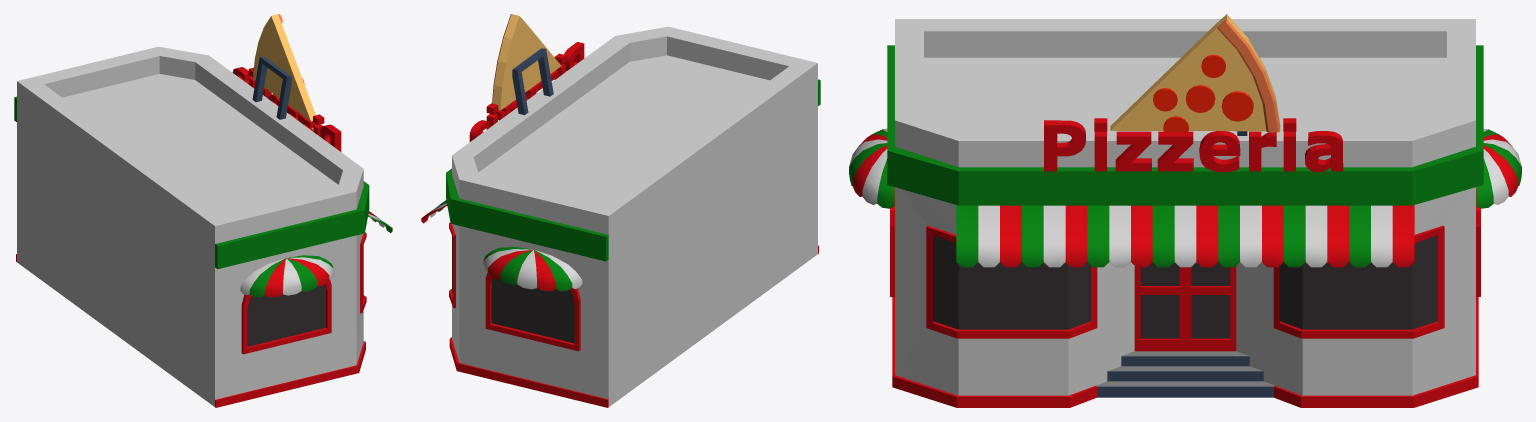
Rendered from shop_a_high.glb.
The picture shows the model from 3 angles, left to right: view 1: azimuth 30°, elevation 25°; view 2: azimuth 150°, elevation 25°; view 3: azimuth 270°, elevation 25°; orthographic projection. The views are drawn at different scales.
Parts seen in each view (by area): view 1: shop_a_high; view 2: shop_a_high; view 3: shop_a_high.
Boxes of the visible parts, x1,y1,x2,y2 form: shop_a_high: [14, 14, 392, 407]; shop_a_high: [421, 14, 820, 407]; shop_a_high: [849, 14, 1521, 407].
Bounding box in the file's own units: 5.13 × 6.6 × 10.27.
1 material, 1 textured.
